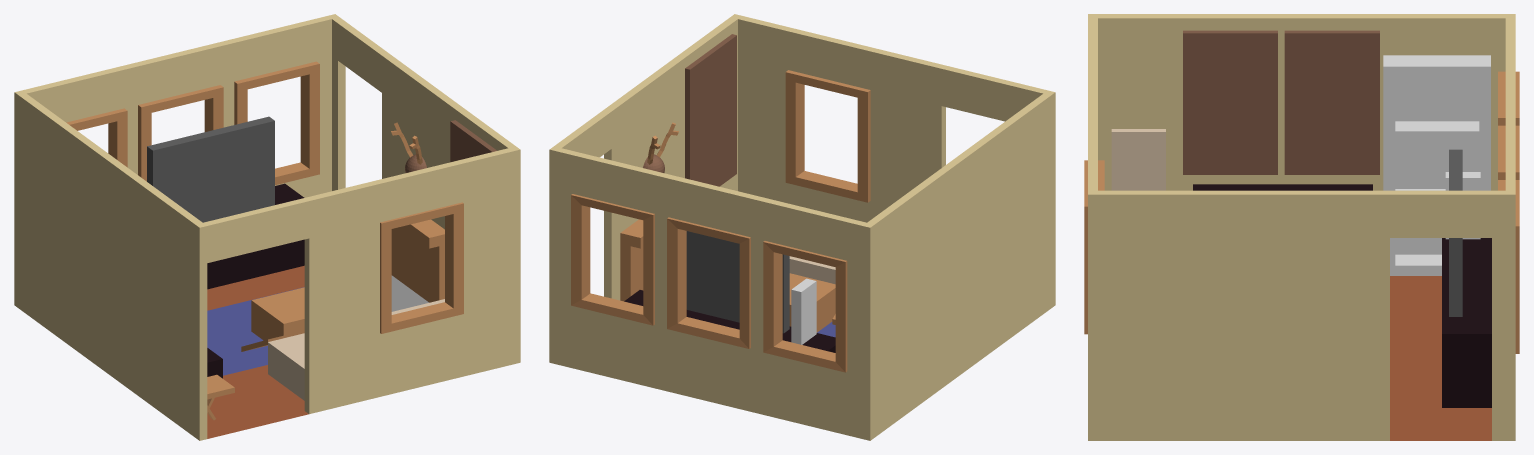
Rendered from asset-2.glb.
The picture shows the model from 3 angles, left to right: view 1: azimuth 30°, elevation 25°; view 2: azimuth 150°, elevation 25°; view 3: azimuth 270°, elevation 25°; orthographic projection. The views are drawn at different scales.
Parts seen in each view (by area): view 1: Cube.020, Cube.002, Cube.003, Cube.019, Cube.010, Plane, Cube.001, Cube.006, Cube.008, Cube.013, Cube.009, Cube.011; view 2: Cube.020, Cube.003, Cube.013, Cube.019, Cube.002, Cube.010, Cube.004, Cube.006, Cube.001, Cube.008; view 3: Cube.020, Cube.005, Cube.012, Cube.017, Cube.001, Cube.018, Cube.003, Cube.002, Cube.022, Cube.007, Cube.019, Cube.004.
Part boxes in pixels (box(x1,y1,x2,y2)): Cube.020: box(14, 14, 520, 440); Cube.002: box(147, 116, 274, 222); Cube.003: box(66, 61, 319, 185); Cube.019: box(380, 202, 463, 333); Cube.010: box(391, 219, 444, 302); Plane: box(207, 287, 304, 375); Cube.001: box(207, 183, 304, 289); Cube.006: box(251, 287, 304, 340); Cube.008: box(268, 299, 444, 400); Cube.013: box(450, 120, 496, 162); Cube.009: box(391, 275, 428, 311); Cube.011: box(207, 374, 234, 399); Cube.020: box(549, 14, 1055, 440); Cube.003: box(571, 194, 847, 372); Cube.013: box(685, 34, 736, 186); Cube.019: box(785, 70, 870, 202); Cube.002: box(686, 231, 789, 333); Cube.010: box(620, 219, 643, 301); Cube.004: box(791, 278, 816, 344); Cube.006: box(789, 273, 835, 332); Cube.001: box(624, 290, 835, 352); Cube.008: box(789, 256, 835, 284); Cube.020: box(1088, 14, 1515, 440); Cube.005: box(1383, 55, 1490, 275); Cube.012: box(1284, 30, 1379, 174); Cube.017: box(1183, 30, 1277, 174); Cube.001: box(1442, 238, 1491, 407); Cube.018: box(1111, 129, 1165, 190); Cube.003: box(1498, 71, 1519, 353); Cube.002: box(1449, 149, 1462, 316); Cube.022: box(1395, 121, 1479, 135); Cube.007: box(1193, 184, 1372, 190); Cube.019: box(1084, 160, 1104, 334); Cube.004: box(1445, 172, 1480, 239).
Bounding box in the file's own units: 3150 × 2016 × 3203.
